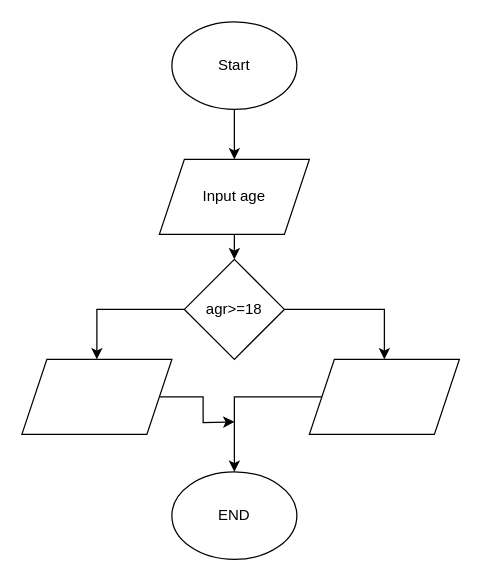
Some shapes in this 481 by 581 pixel diagram are drawn without their labels. The box of each missing label's shape, as (x1, y1, x2, y2) in pixels:
Eligible to vote: (21, 358, 172, 434)
not Eligible to vote: (308, 358, 459, 434)
